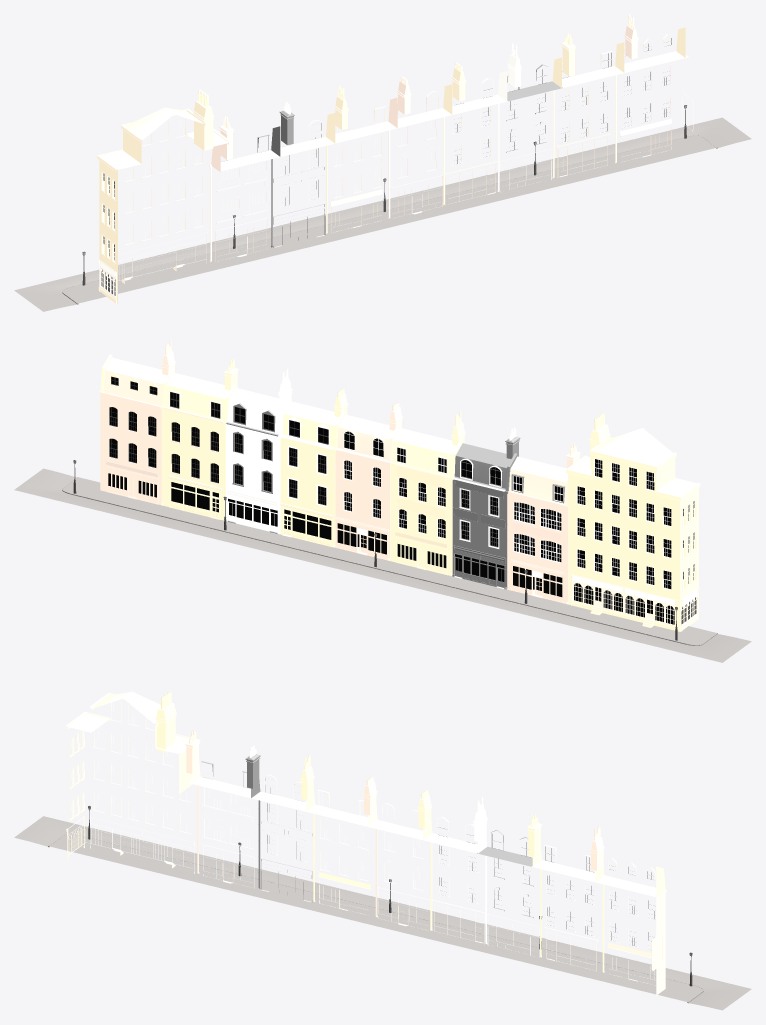
File: modelX.glb
The picture shows the model from 3 angles, top to bottom: view 1: azimuth 30°, elevation 25°; view 2: azimuth 150°, elevation 25°; view 3: azimuth 330°, elevation 25°; orthographic projection.
Parts seen in each view (by area): view 1: cityBlock_04_Sidewalk, cityBlock_04_Road, cityBlock_04_House_I_Facade_01, cityBlock_04_House_I_Facade_02, cityBlock_04_House_I_Roof, cityBlock_04_House_I_Chimney_01, cityBlock_04_House_I_Shop_Facade, cityBlock_04_House_H_Facade_02, cityBlock_04_Curb, cityBlock_04_House_F_Facade_02, cityBlock_04_House_A_Facade_02, cityBlock_04_House_B_Facade_02 (+5 smaller); view 2: cityBlock_04_House_I_Facade_01, cityBlock_04_Road, cityBlock_04_Sidewalk, cityBlock_04_House_I_Windows_Glass, cityBlock_04_House_I_Facade_02, cityBlock_04_House_A_Facade_01, cityBlock_04_House_B_Facade_01, cityBlock_04_House_D_Facade_01, cityBlock_04_House_E_Facade_01, cityBlock_04_House_H_Windows_Glass, cityBlock_04_House_F_Facade_01, cityBlock_04_House_I_Shop_Facade (+44 smaller); view 3: cityBlock_04_Sidewalk, cityBlock_04_Road, cityBlock_04_House_I_Roof, cityBlock_04_House_I_Facade_02, cityBlock_04_House_I_Shop_Facade, cityBlock_04_House_I_Facade_01, cityBlock_04_House_A_Facade_01, cityBlock_04_House_I_Chimney_01, cityBlock_04_House_I_Windows_Frames, cityBlock_04_House_H_Facade_02, cityBlock_04_Curb, cityBlock_04_House_A_Facade_02 (+6 smaller).
Part boxes in pixels (x1,y1,x2,y2): cityBlock_04_Sidewalk: [63, 135, 716, 303]; cityBlock_04_Road: [14, 117, 751, 311]; cityBlock_04_House_I_Facade_01: [99, 118, 202, 304]; cityBlock_04_House_I_Facade_02: [97, 108, 231, 302]; cityBlock_04_House_I_Roof: [101, 107, 228, 169]; cityBlock_04_House_I_Chimney_01: [192, 101, 214, 150]; cityBlock_04_House_I_Shop_Facade: [98, 232, 207, 304]; cityBlock_04_House_H_Facade_02: [211, 150, 281, 256]; cityBlock_04_Curb: [62, 135, 717, 304]; cityBlock_04_House_F_Facade_02: [333, 121, 398, 228]; cityBlock_04_House_A_Facade_02: [622, 51, 688, 157]; cityBlock_04_House_B_Facade_02: [559, 66, 625, 177]; cityBlock_04_House_I_Facade_01: [568, 455, 698, 626]; cityBlock_04_Road: [14, 468, 751, 662]; cityBlock_04_Sidewalk: [63, 477, 715, 644]; cityBlock_04_House_I_Windows_Glass: [574, 459, 696, 624]; cityBlock_04_House_I_Facade_02: [565, 437, 700, 631]; cityBlock_04_House_A_Facade_01: [100, 393, 161, 504]; cityBlock_04_House_B_Facade_01: [163, 409, 224, 520]; cityBlock_04_House_D_Facade_01: [280, 437, 333, 545]; cityBlock_04_House_E_Facade_01: [335, 451, 388, 547]; cityBlock_04_House_H_Windows_Glass: [513, 476, 562, 596]; cityBlock_04_House_F_Facade_01: [389, 464, 450, 575]; cityBlock_04_House_I_Shop_Facade: [571, 574, 699, 631]; cityBlock_04_Sidewalk: [49, 834, 702, 1001]; cityBlock_04_Road: [14, 816, 751, 1010]; cityBlock_04_House_I_Roof: [68, 691, 188, 753]; cityBlock_04_House_I_Facade_02: [65, 693, 200, 868]; cityBlock_04_House_I_Shop_Facade: [66, 816, 194, 873]; cityBlock_04_House_I_Facade_01: [72, 702, 192, 833]; cityBlock_04_House_A_Facade_01: [609, 890, 665, 995]; cityBlock_04_House_I_Chimney_01: [155, 702, 176, 752]; cityBlock_04_House_I_Windows_Frames: [71, 702, 186, 832]; cityBlock_04_House_H_Facade_02: [189, 777, 253, 883]; cityBlock_04_Curb: [48, 834, 703, 1003]; cityBlock_04_House_A_Facade_02: [594, 875, 666, 981].
Size of the model in its own units: 536 by 134 by 52.69.
